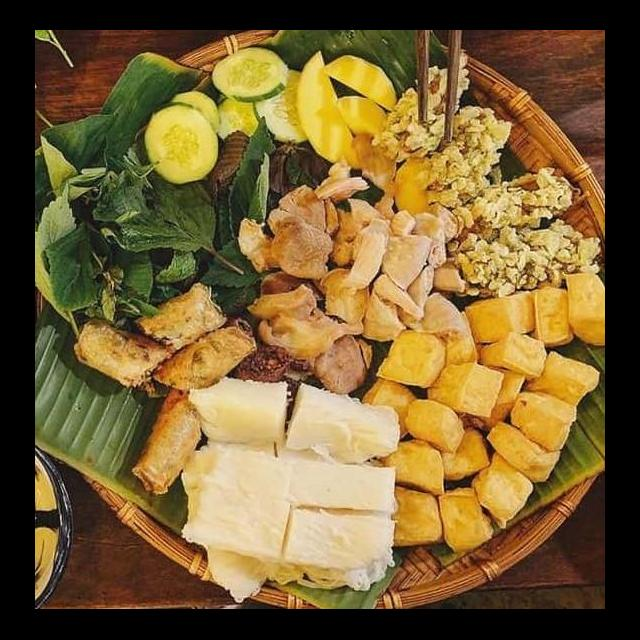bun: (175, 368, 406, 608)
bun dau: (35, 67, 605, 610)
cha com: (378, 52, 605, 296)
cha gio: (140, 309, 260, 402), (122, 388, 201, 502), (70, 314, 172, 402), (132, 276, 233, 354)
dau hu: (362, 264, 605, 562)
